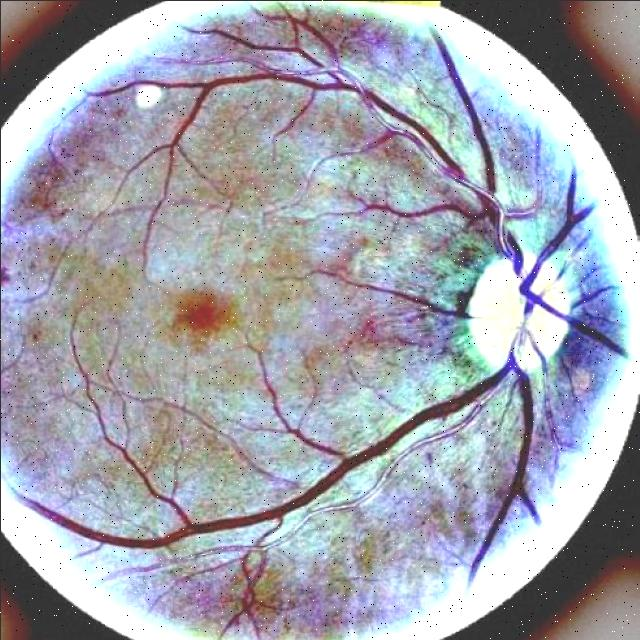Macula: (163, 284, 238, 347)
Nerves: (39, 364, 507, 546), (222, 64, 475, 206), (470, 363, 536, 575), (431, 29, 493, 193)
Optic Disk: (467, 258, 567, 368)
